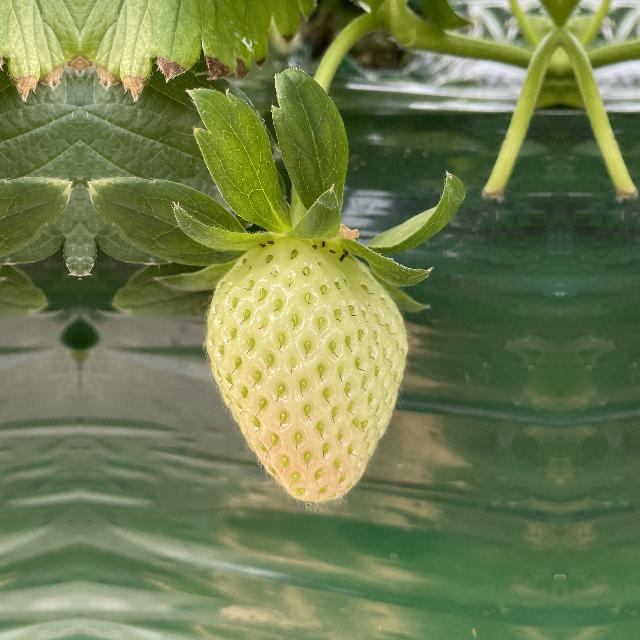Health_25: (198, 240, 412, 512)
